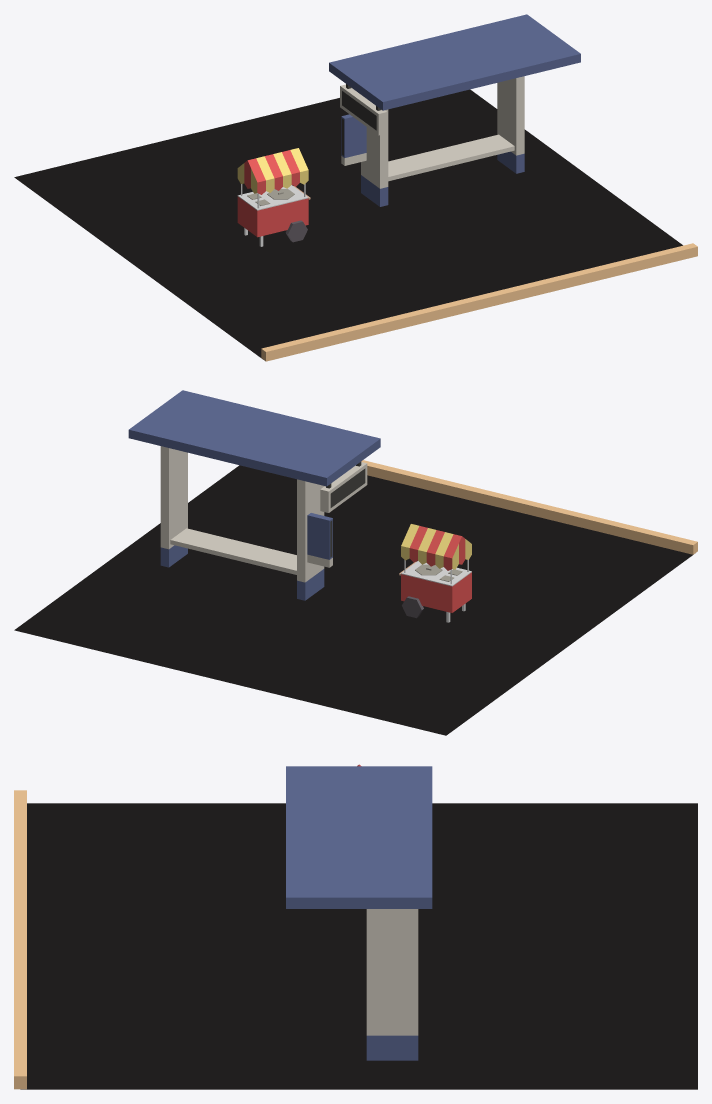
File: Tile 26_Combined.fbx
3 renders of one model, top to bottom at view 1: azimuth 30°, elevation 25°; view 2: azimuth 150°, elevation 25°; view 3: azimuth 270°, elevation 25°, orthographic. The views are drawn at different scales.
Parts seen in each view (by area): view 1: MeshBaker_Cluster_0_mesh_mesh; view 2: MeshBaker_Cluster_0_mesh_mesh; view 3: MeshBaker_Cluster_0_mesh_mesh.
Part boxes in pixels (box(x1,y1,x2,y2)): MeshBaker_Cluster_0_mesh_mesh: box(14, 14, 697, 361); MeshBaker_Cluster_0_mesh_mesh: box(14, 390, 697, 735); MeshBaker_Cluster_0_mesh_mesh: box(14, 764, 697, 1089).
Size of the model in its own units: 3000 by 884 by 3029.
